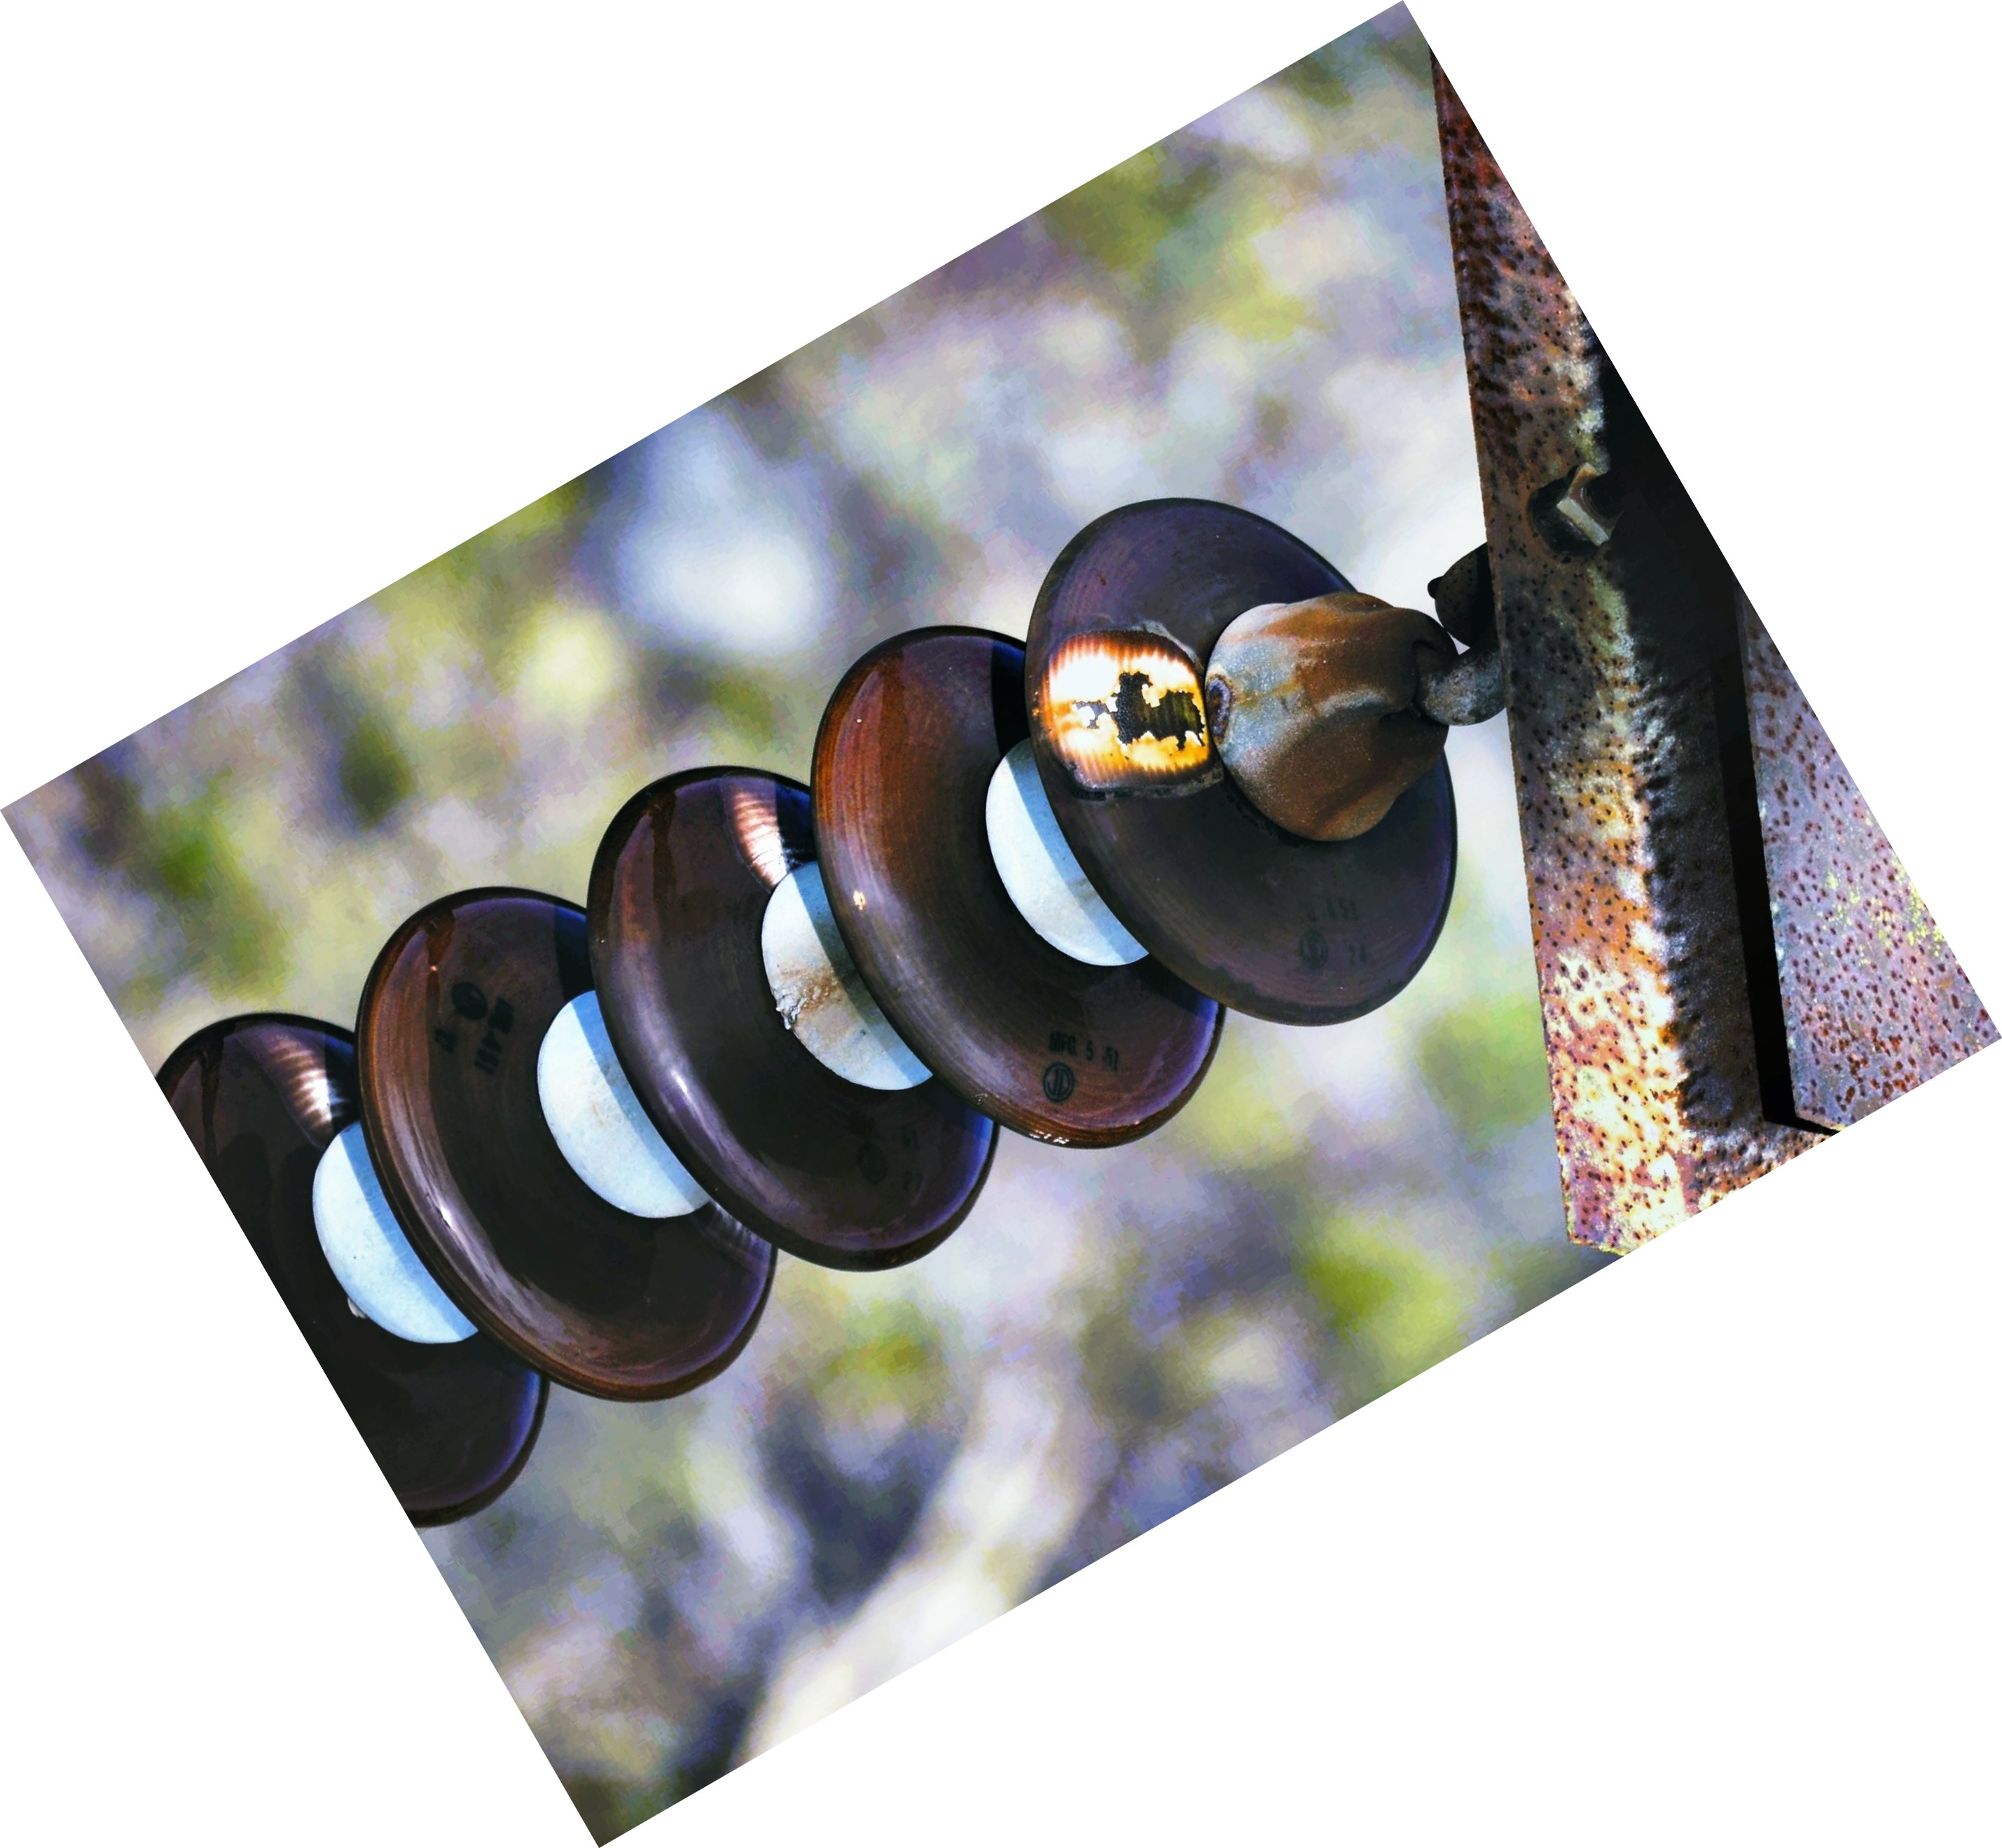Insulator flashover: (1006, 460, 1482, 1055)
